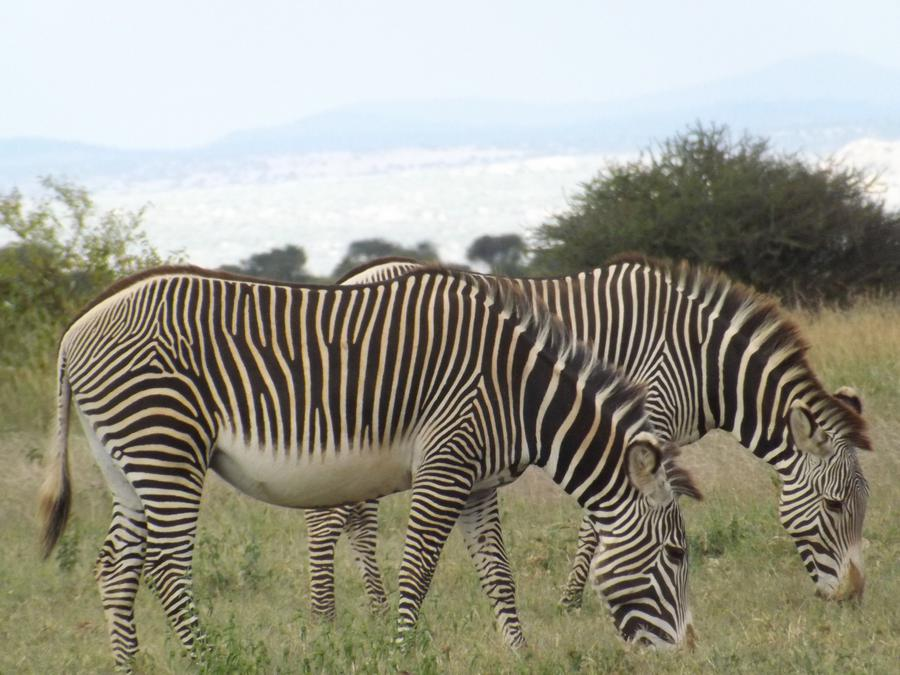zebra_grevys: (42, 246, 507, 497)
